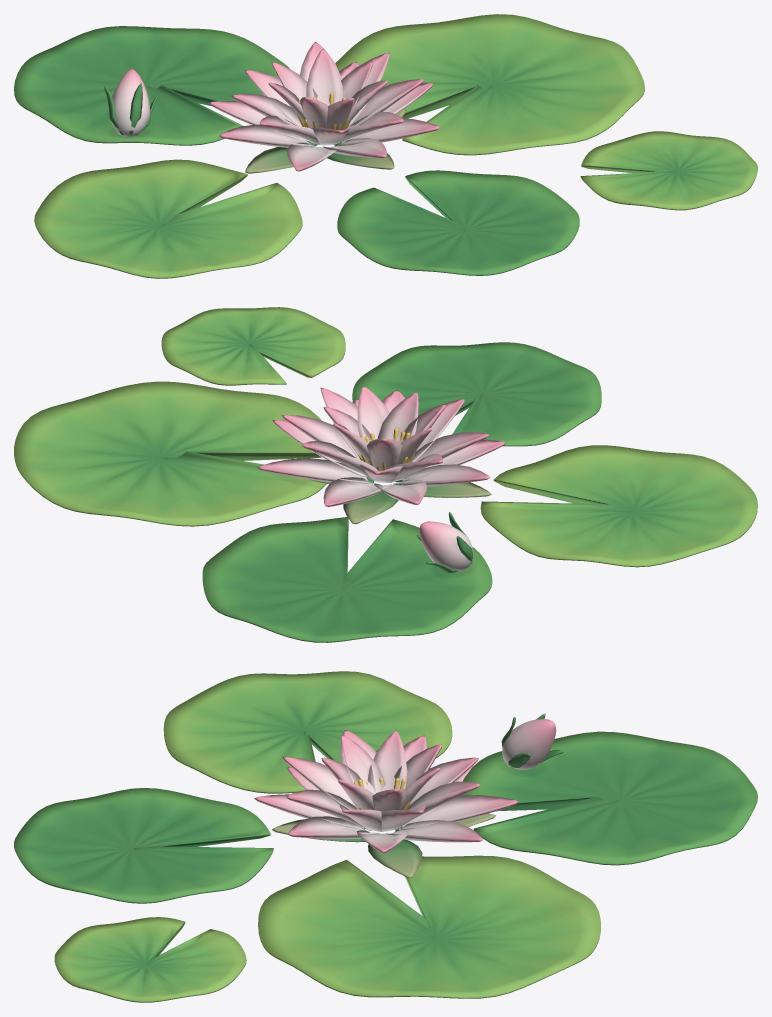
Rendered from lily_pad_clump.fbx.
3 renders of one model, top to bottom at view 1: azimuth 30°, elevation 25°; view 2: azimuth 150°, elevation 25°; view 3: azimuth 270°, elevation 25°, orthographic. The views are drawn at different scales.
Parts seen in each view (by area): view 1: lily_pad_clump; view 2: lily_pad_clump; view 3: lily_pad_clump.
Boxes of the visible parts, x1,y1,x2,y2 form: lily_pad_clump: (14,14,757,278); lily_pad_clump: (14,307,757,642); lily_pad_clump: (14,671,757,1002).
Size of the model in its own units: 0.65 by 0.0815 by 0.6216.
1 material, 1 textured.
